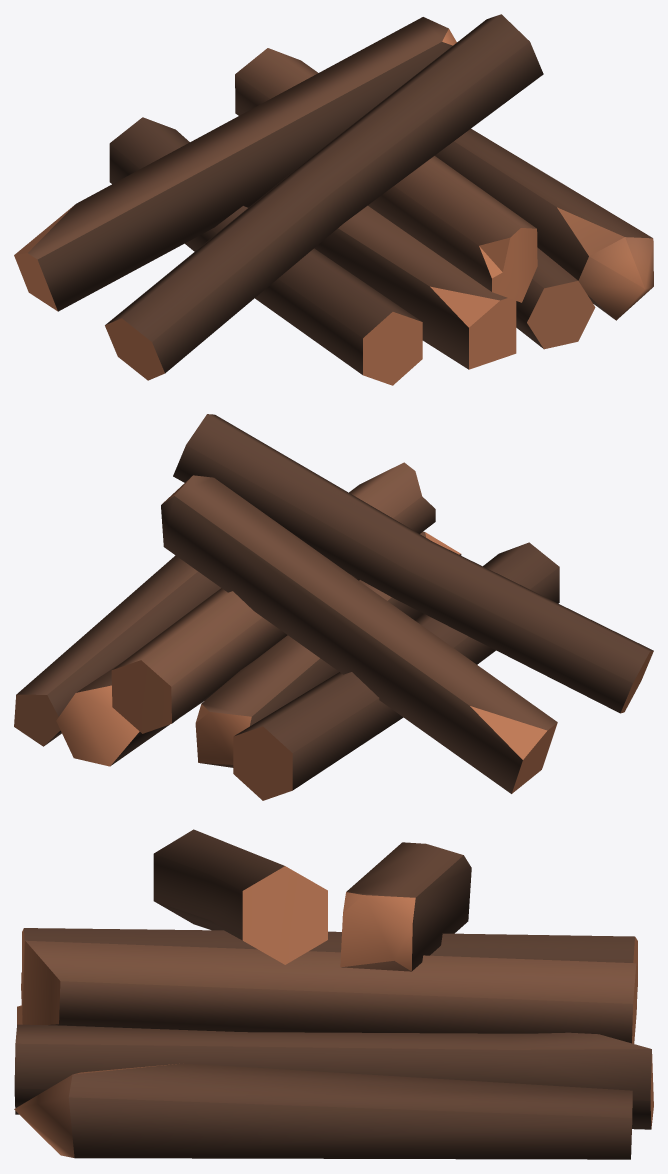
File: Wood_Pile_1C.fbx
3 views of the same model, one above another, from view 1: azimuth 30°, elevation 25°; view 2: azimuth 150°, elevation 25°; view 3: azimuth 270°, elevation 25° (orthographic). The views are drawn at different scales.
Parts seen in each view (by area): view 1: Wood_Pile_1C; view 2: Wood_Pile_1C; view 3: Wood_Pile_1C.
Part boxes in pixels (x1,y1,x2,y2): Wood_Pile_1C: (14,14,653,385); Wood_Pile_1C: (14,414,653,800); Wood_Pile_1C: (14,829,653,1159).
Bounding box in the file's own units: 194 × 93.11 × 192.
